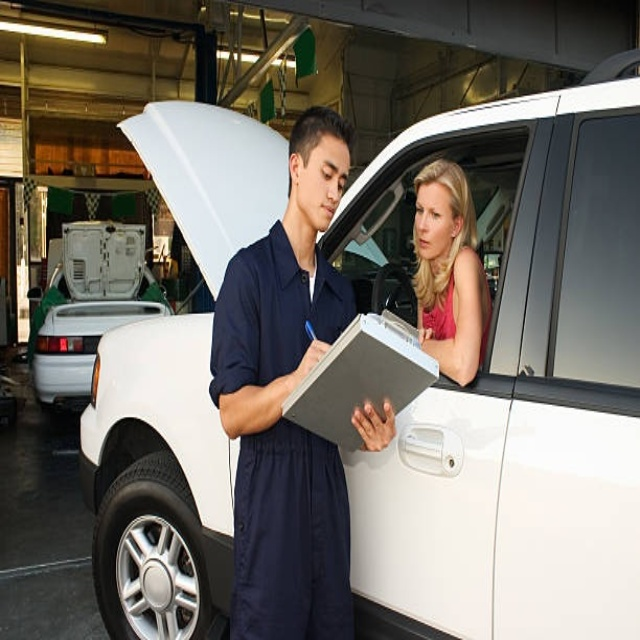Sin_gafas: (313, 154, 349, 198), (415, 195, 451, 229)
Sin_guantes: (352, 396, 398, 453)
Sin_mascara: (315, 199, 340, 227), (414, 232, 437, 262)
